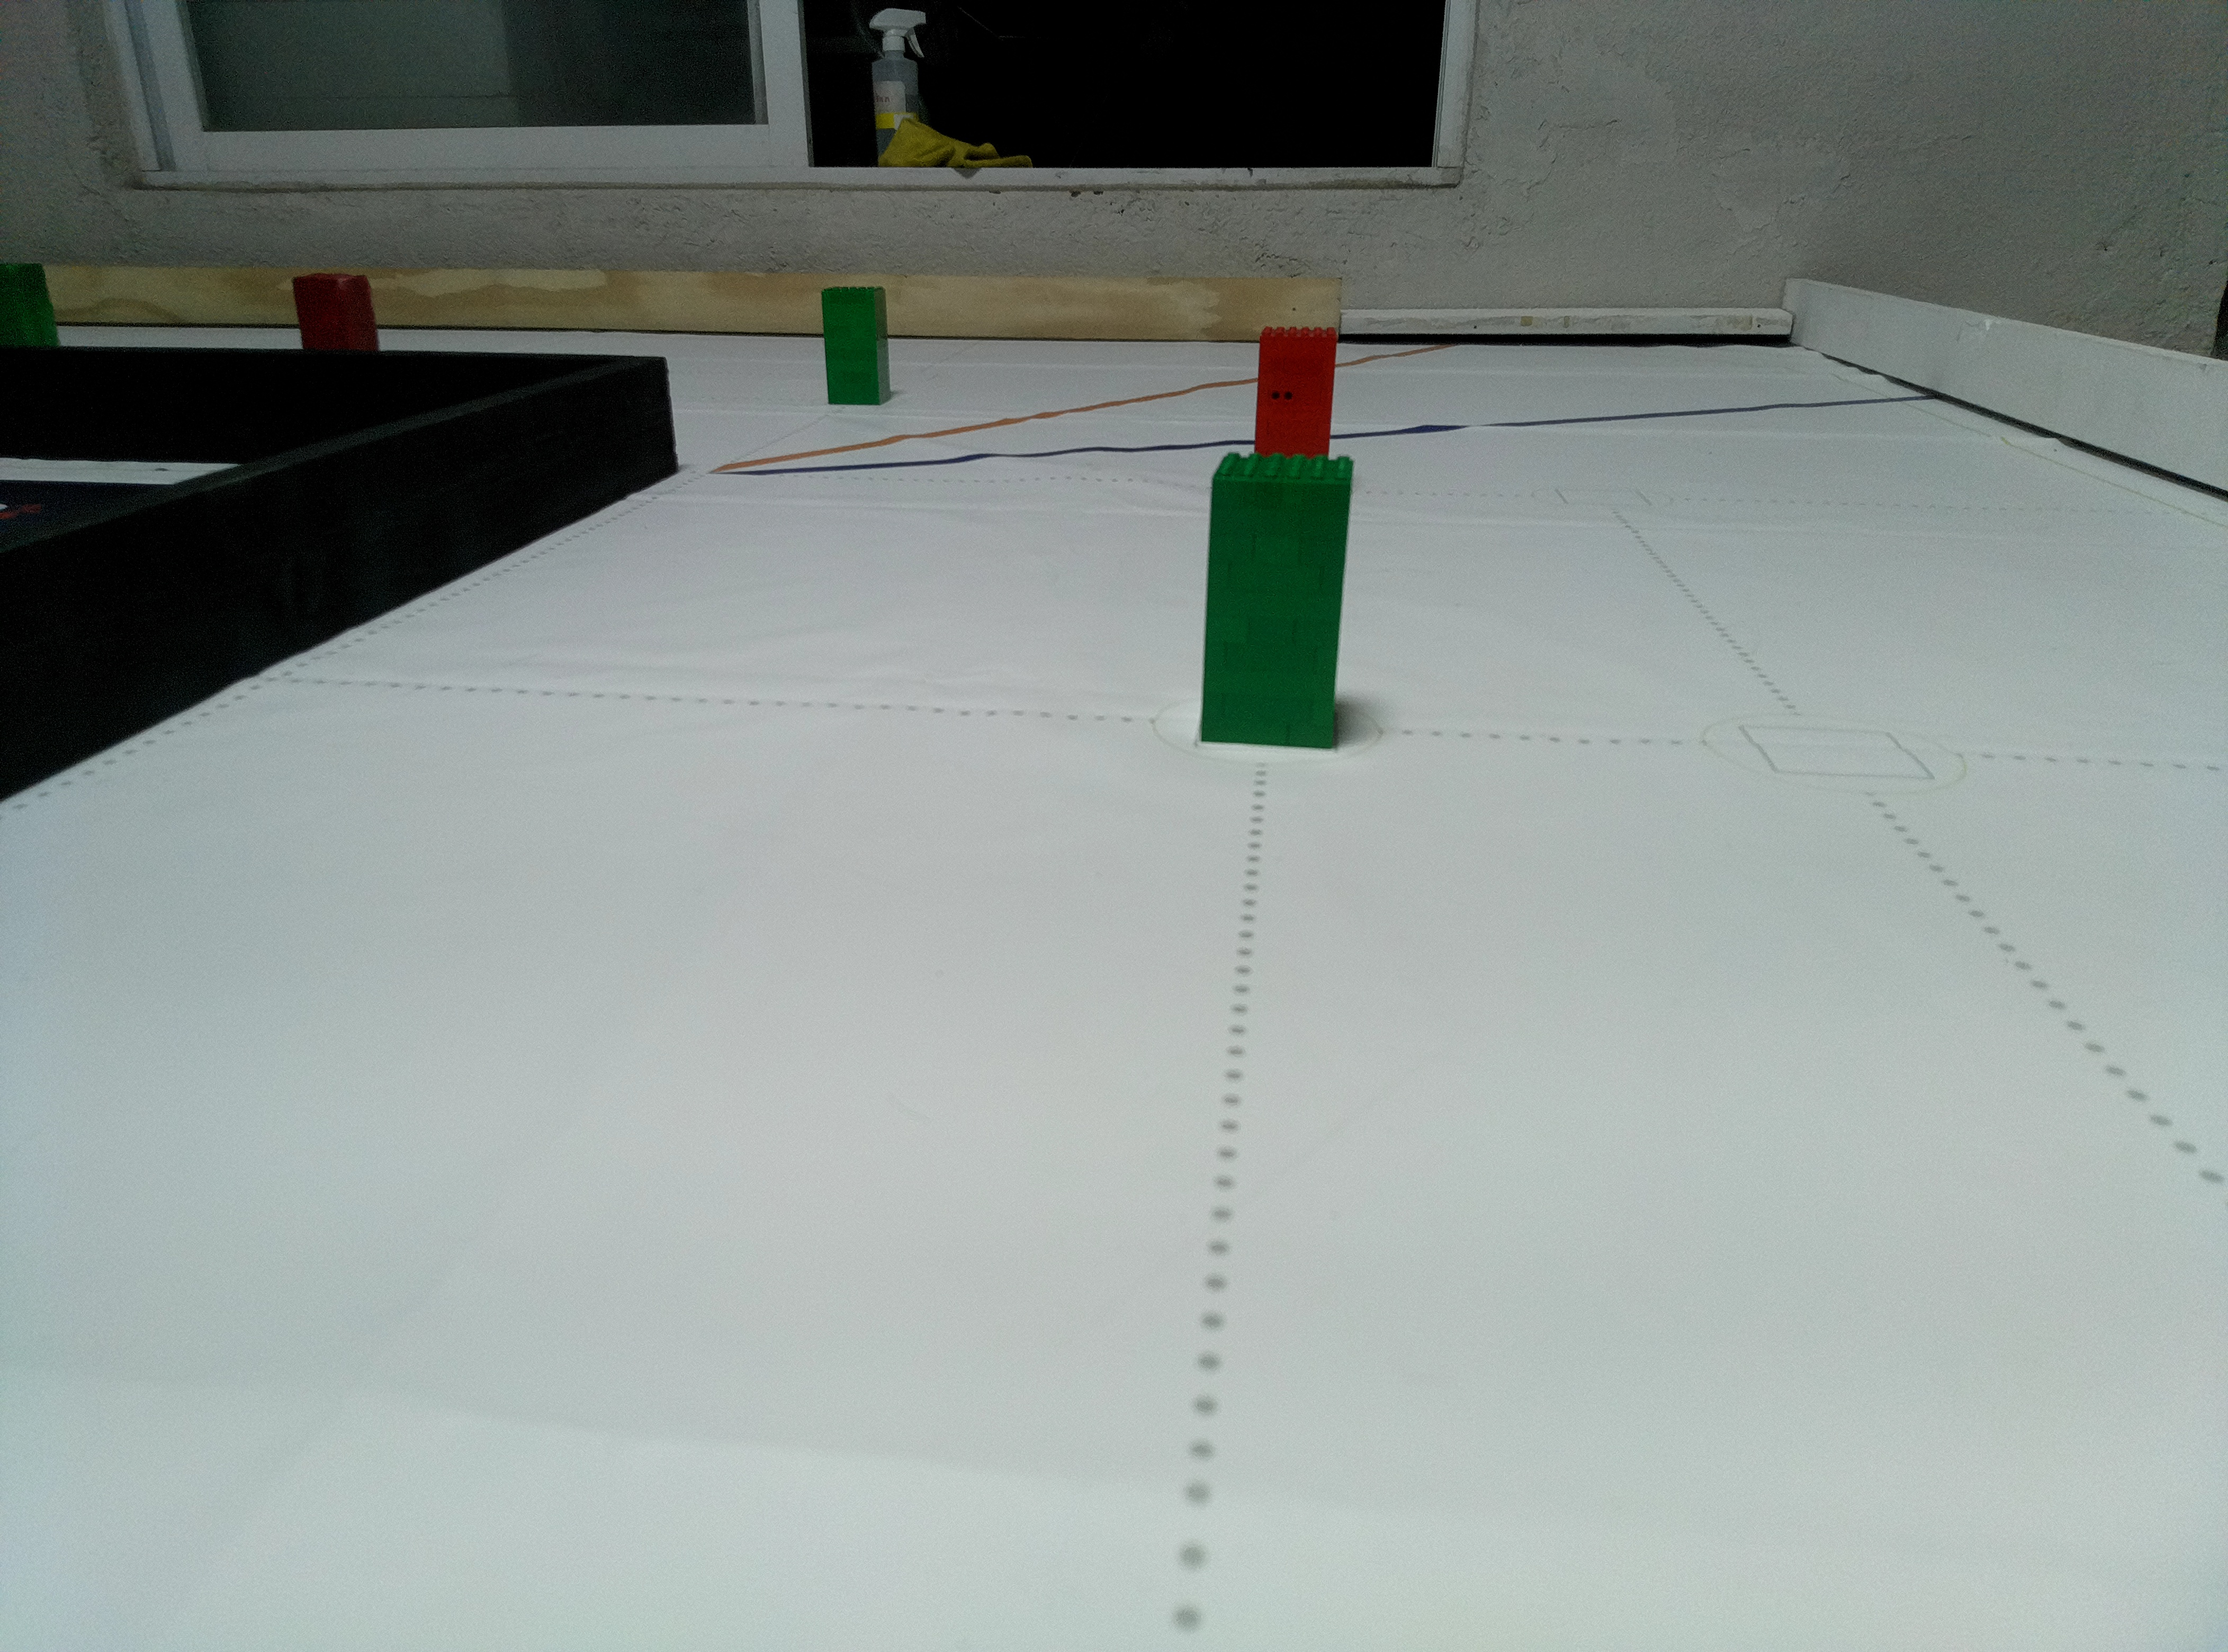greenbox: (1197, 453, 1359, 751), (819, 285, 892, 406), (0, 260, 66, 347)
redbox: (1251, 326, 1340, 458), (290, 272, 382, 351)
